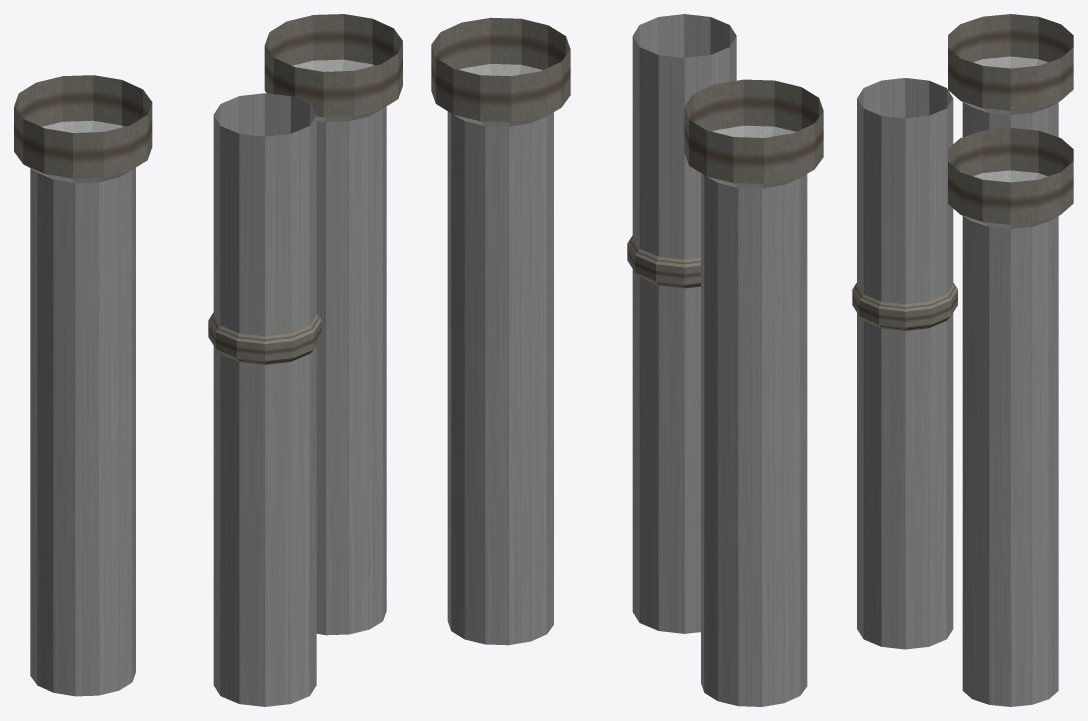
Rendered from cell_4.obj.
3 views of the same model, side by side, from view 1: azimuth 30°, elevation 25°; view 2: azimuth 150°, elevation 25°; view 3: azimuth 270°, elevation 25° (orthographic). The views are drawn at different scales.
Size of the model in its own units: 0.68 by 1 by 0.3772.
